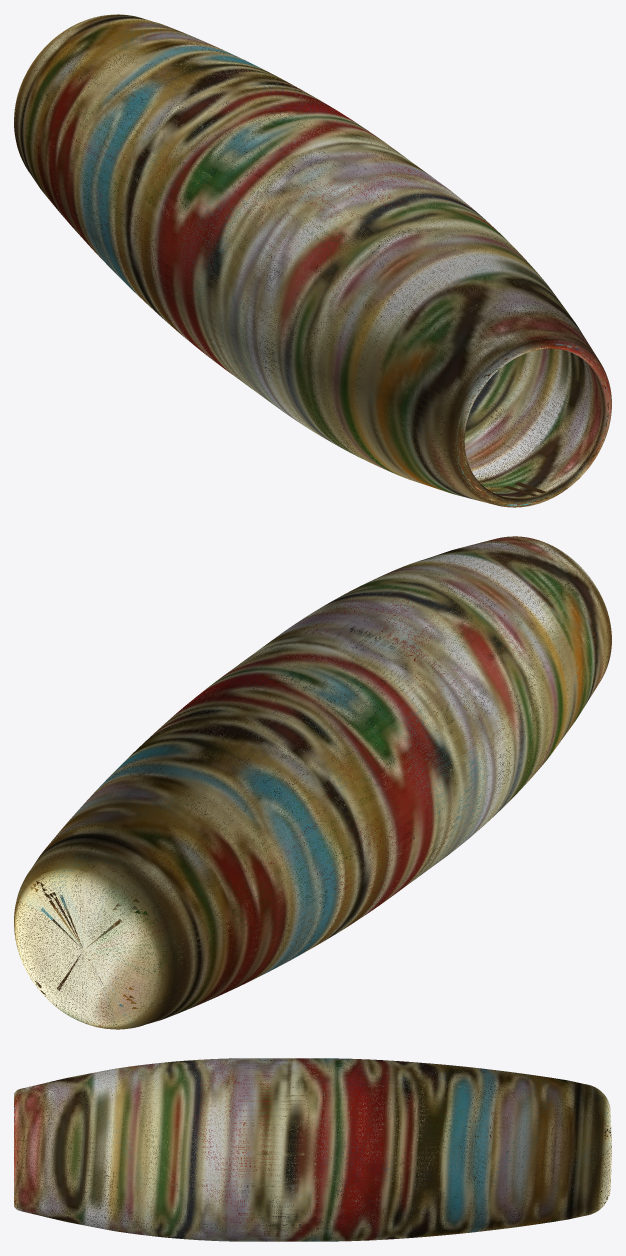
File: model_align.obj
3 renders of one model, top to bottom at view 1: azimuth 30°, elevation 25°; view 2: azimuth 150°, elevation 25°; view 3: azimuth 270°, elevation 25°, orthographic. The views are drawn at different scales.
Visible parts, largest first — view 1: mesh1_mesh1-geometry; view 2: mesh1_mesh1-geometry; view 3: mesh1_mesh1-geometry.
Boxes of the visible parts, <box> form: mesh1_mesh1-geometry: <box>14,14,611,507</box>; mesh1_mesh1-geometry: <box>14,536,611,1029</box>; mesh1_mesh1-geometry: <box>14,1058,611,1241</box>.
Bounding box in the file's own units: 0.0791 × 0.0791 × 0.2577.
